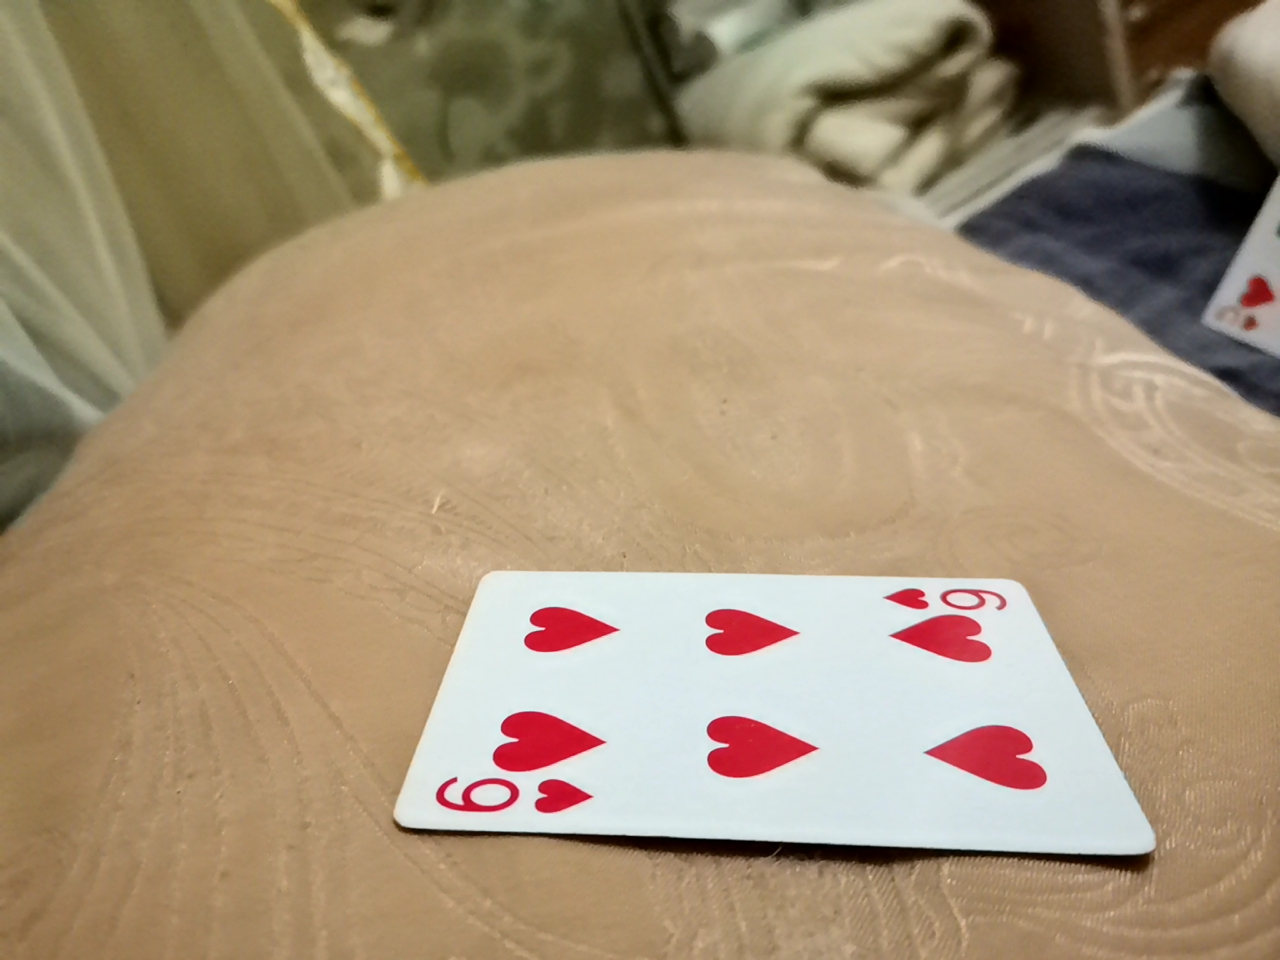hx 6: (383, 569, 1122, 845)
